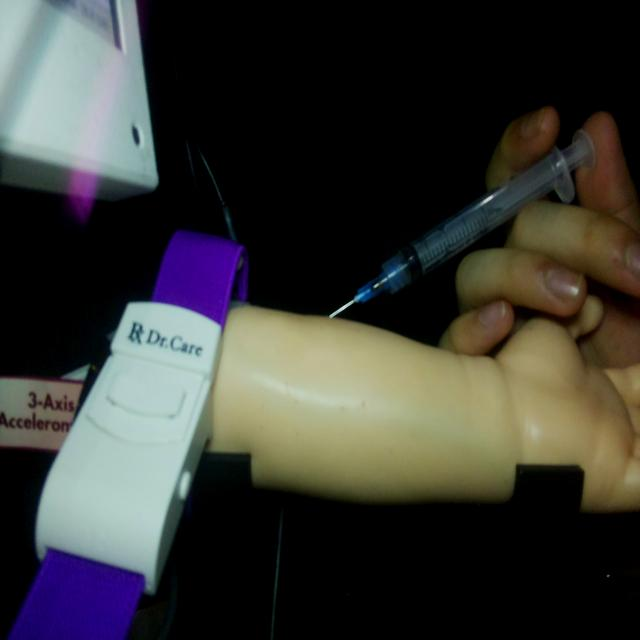25 degrees: (327, 125, 597, 321)
